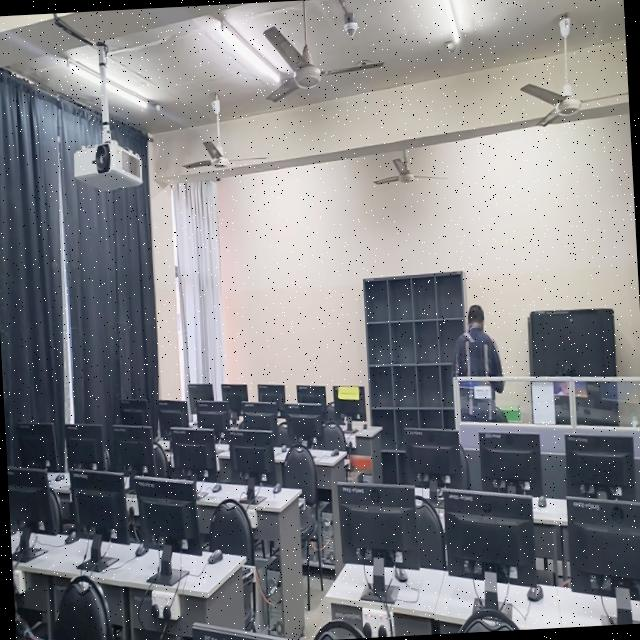Chair: (54, 574, 113, 640), (209, 499, 255, 566), (416, 497, 446, 570), (283, 445, 318, 507), (458, 607, 521, 633), (314, 620, 367, 640), (45, 485, 62, 535), (452, 444, 470, 489), (154, 442, 169, 476)
Light: (217, 21, 280, 82), (443, 0, 460, 52)
Monitor: (445, 491, 537, 586), (568, 497, 640, 600), (337, 483, 420, 569), (135, 477, 202, 555), (566, 435, 636, 500), (70, 470, 131, 544), (480, 432, 542, 497), (230, 430, 278, 504), (406, 429, 462, 487), (7, 467, 50, 532), (171, 429, 218, 483), (18, 423, 64, 472), (66, 424, 111, 469), (114, 426, 155, 475), (286, 404, 325, 447), (240, 404, 278, 443), (195, 400, 231, 441), (159, 401, 189, 438), (334, 386, 365, 421), (298, 385, 327, 421), (222, 384, 248, 419), (258, 384, 286, 413), (121, 399, 151, 426), (188, 383, 214, 414)
Mouse: (394, 556, 408, 582), (527, 585, 543, 601), (208, 549, 223, 564), (136, 544, 149, 556), (273, 483, 281, 494), (212, 483, 221, 492), (539, 496, 546, 507), (331, 450, 339, 455)
Projector: (74, 140, 143, 191)
